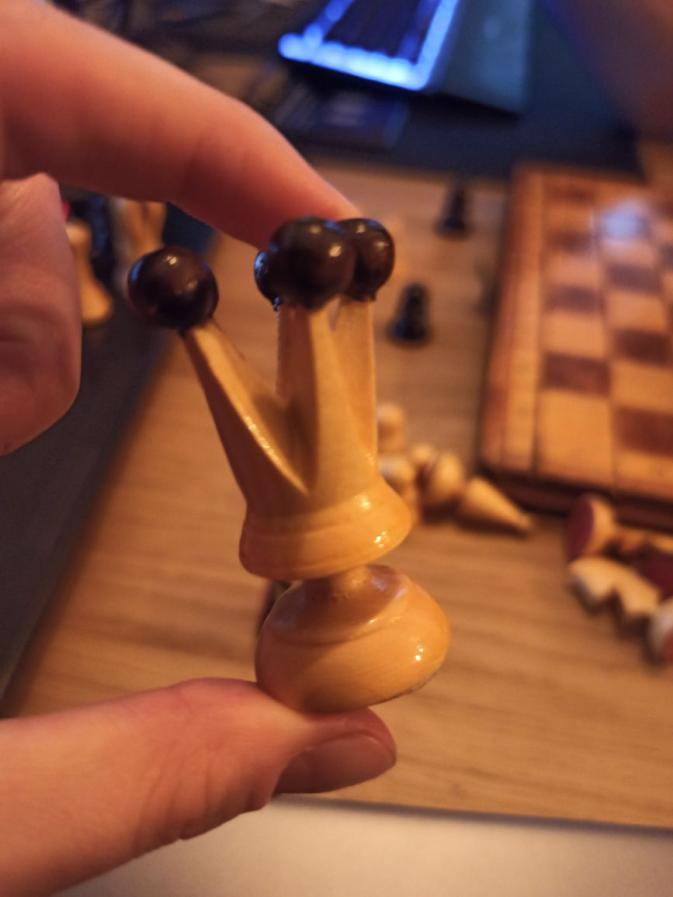wqueen: (133, 218, 452, 717)
